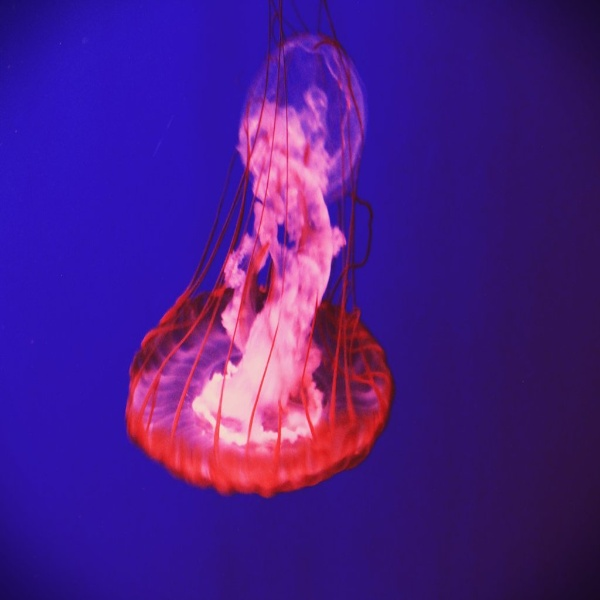Jellyfish: (113, 0, 398, 527)
